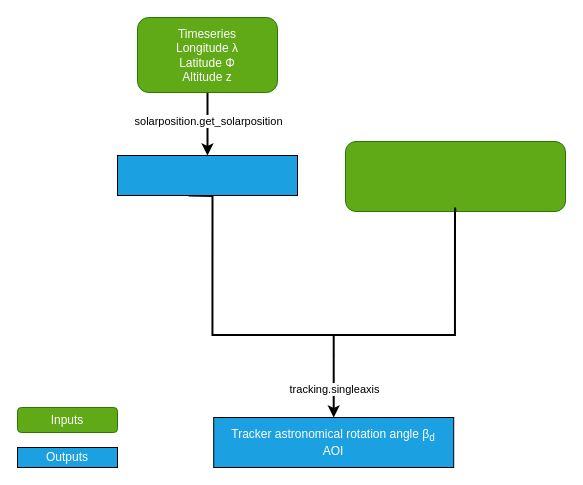
The diagram is 583 pixels wide and 485 high, and some of its shapes have lost their labels. The shapes that lost their labels are listed below. From the top down, each one's centre as x and y in pixels, then its label:
At [207,175]: "Solar zenith θ z Solar azimuth γ s".
At [455,176]: "Tracker/axis azimuth γ a Tracker/axis tilt β a Maximum rotation angle β max GCR".
